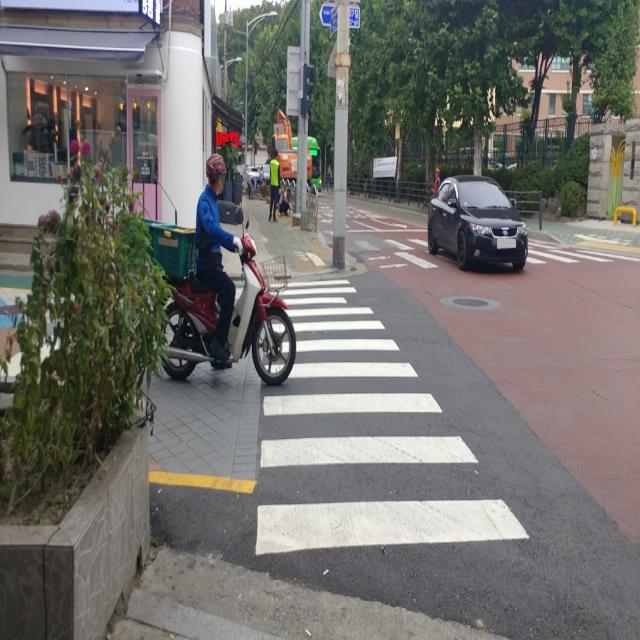횡단보도: (254, 277, 530, 557), (367, 239, 610, 265)
